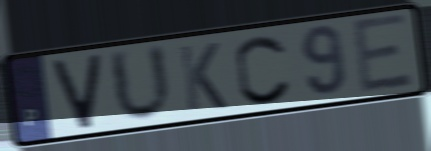9: (298, 22, 350, 101)
C: (233, 32, 294, 107)
E: (349, 11, 417, 98)
K: (177, 40, 230, 114)
U: (105, 41, 176, 126)
V: (48, 50, 105, 133)
